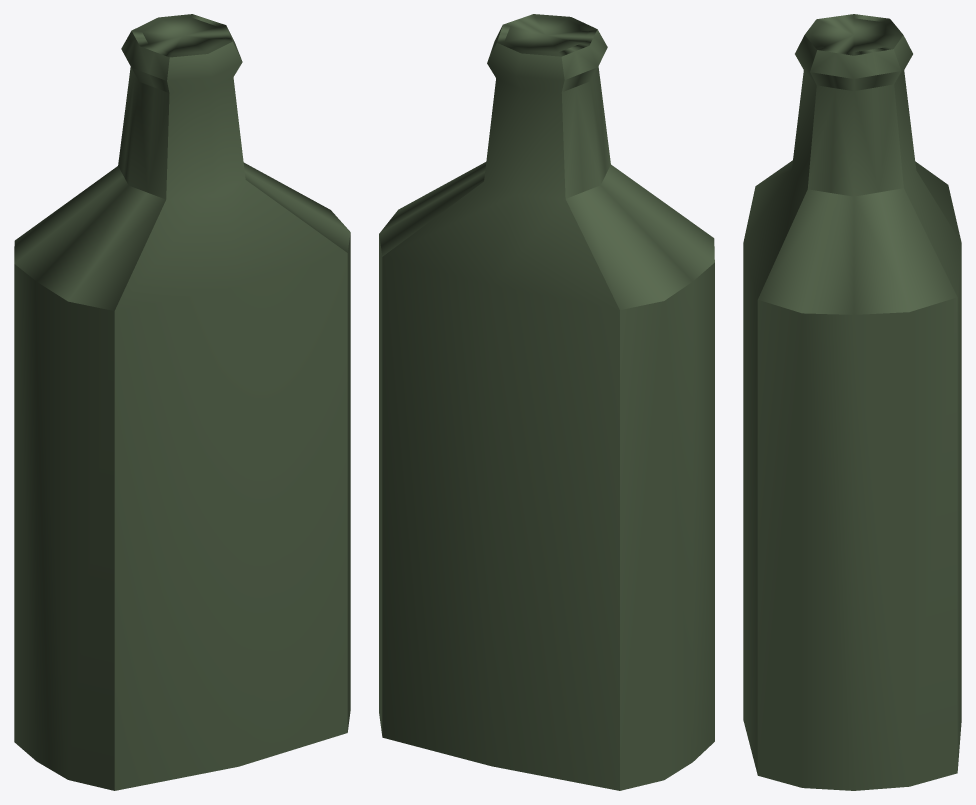
The model's file is flaske1_green.fbx.
3 views of the same model, side by side, from view 1: azimuth 30°, elevation 25°; view 2: azimuth 150°, elevation 25°; view 3: azimuth 270°, elevation 25° (orthographic).
Visible parts, largest first — view 1: pCube14; view 2: pCube14; view 3: pCube14.
Part boxes in pixels (box(x1,y1,x2,y2)): pCube14: box(14, 14, 350, 790); pCube14: box(379, 14, 714, 790); pCube14: box(743, 14, 961, 790).
Bounding box in the file's own units: 1.3 × 2.92 × 0.8435.
